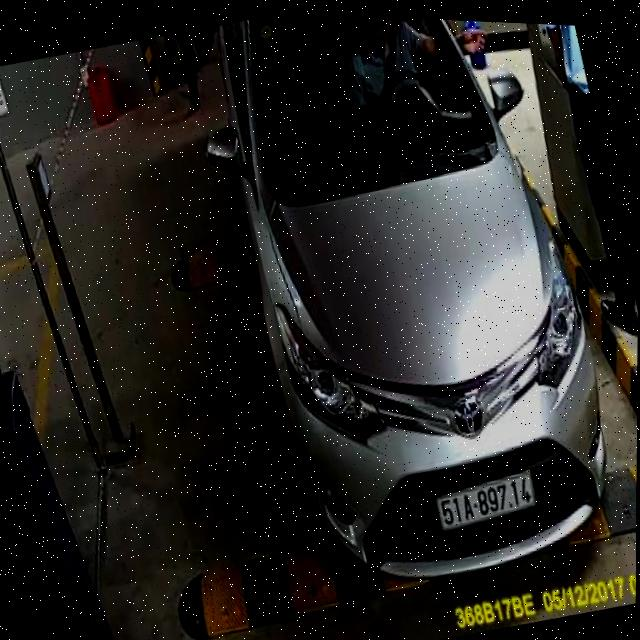car: (169, 8, 640, 621)
plate: (428, 464, 547, 537)
